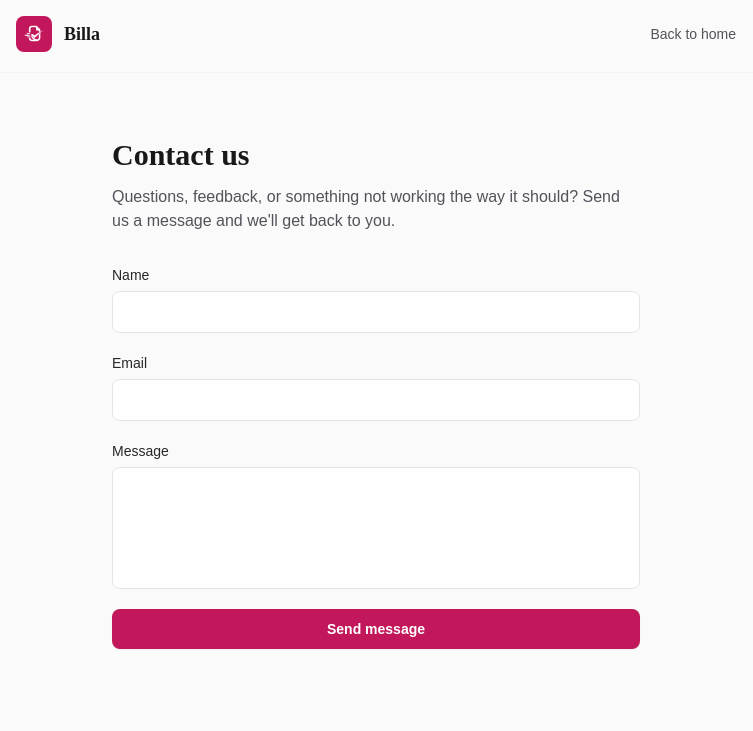
Test case: Contact › shows an error banner when the request fails
The image size is (753, 731).
Step 1. Type "Aline" into the field labelled "Name" → (376, 312), box x1=112 y1=291 x2=640 y2=333
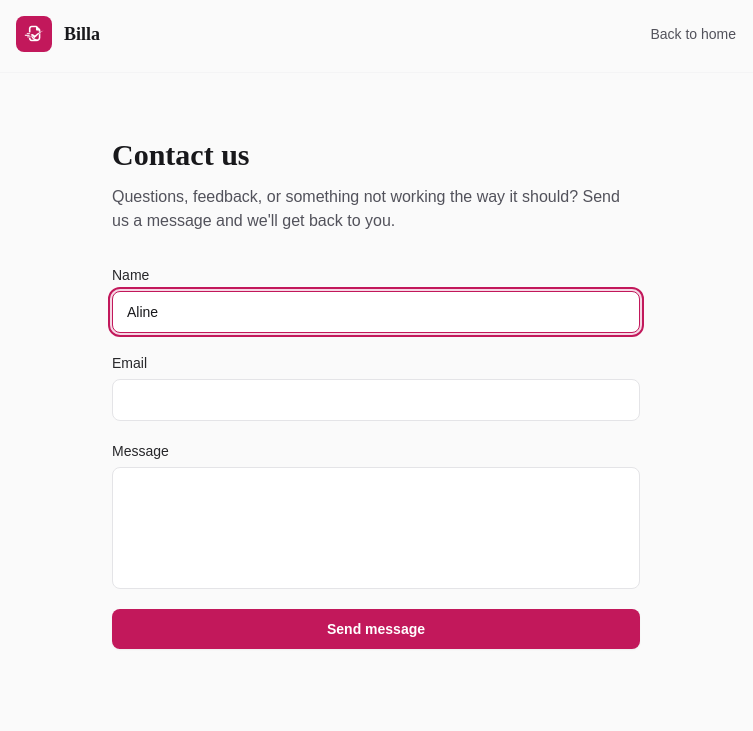
Step 2. Type "aline@example.com" into the field labelled "Email" → (376, 400), box x1=112 y1=379 x2=640 y2=421
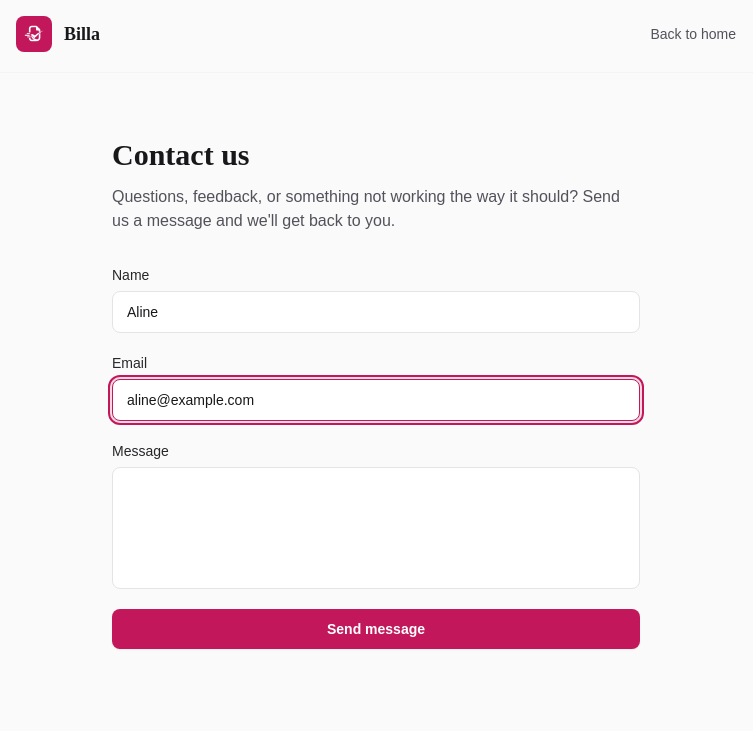
Step 3. Type "I'd like help setting up my templates." into the text box labelled "Message" → (376, 528), box x1=112 y1=467 x2=640 y2=589
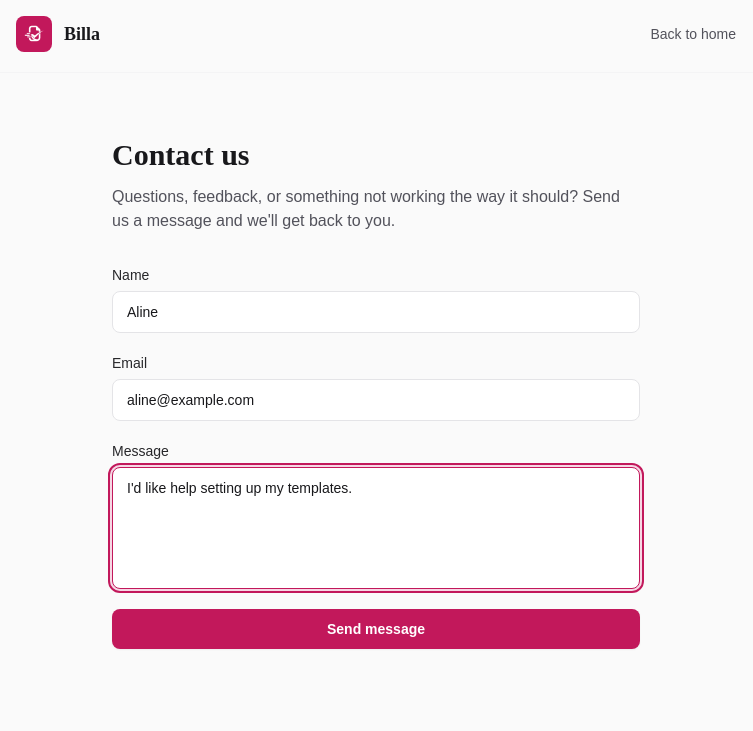
Step 4. Click the button "Send message" → click(376, 629), box x1=112 y1=609 x2=640 y2=649
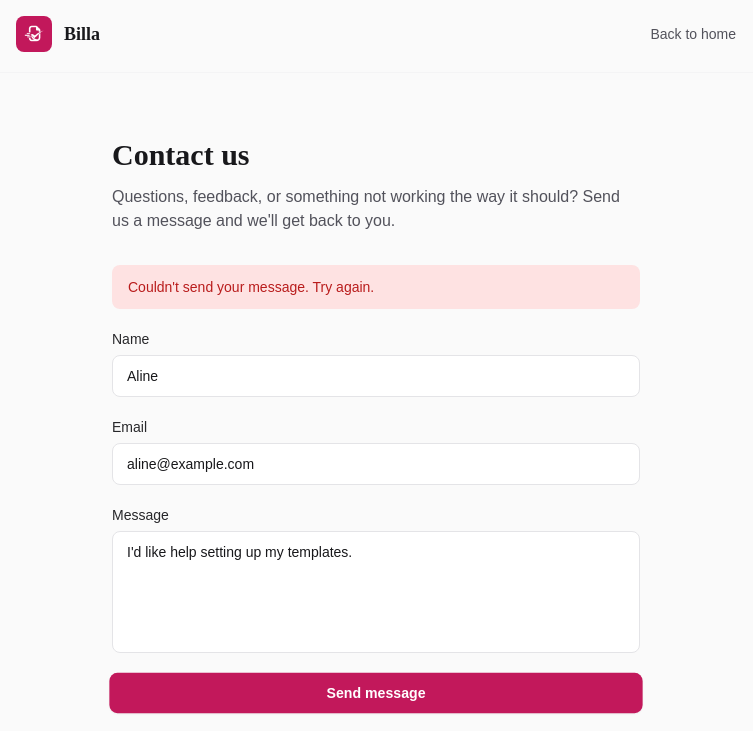
Result: the message shows "Couldn't send your message" at x1=128 y1=279 x2=374 y2=295
